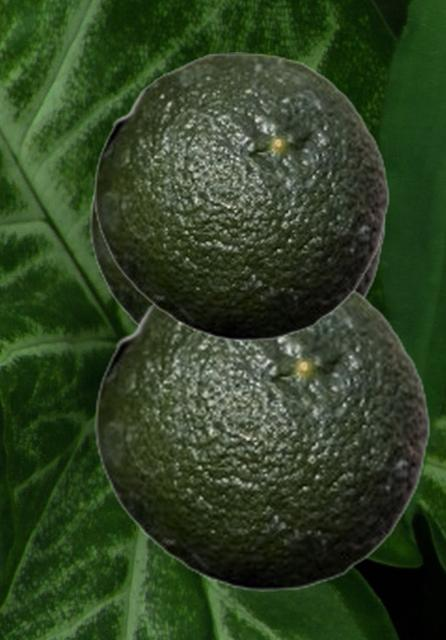calamansi: (94, 289, 430, 590), (93, 52, 389, 340), (89, 182, 385, 326)
